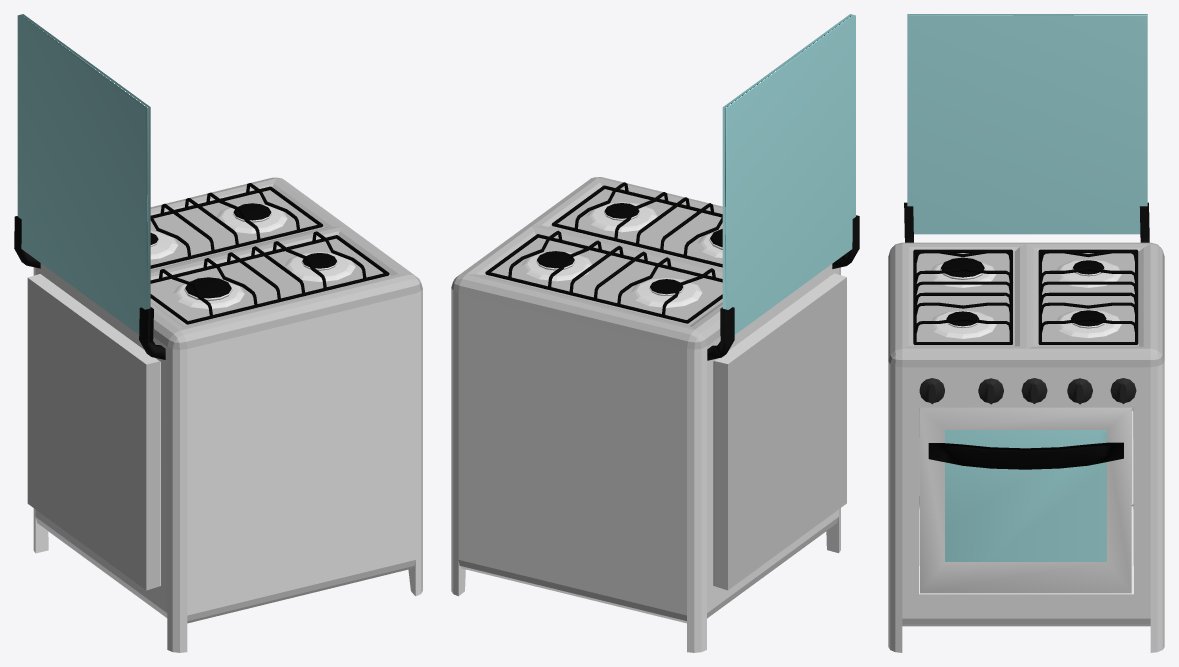
The model's file is fogao.fbx.
The picture shows the model from 3 angles, left to right: view 1: azimuth 30°, elevation 25°; view 2: azimuth 150°, elevation 25°; view 3: azimuth 270°, elevation 25°; orthographic projection. The views are drawn at different scales.
Visible parts, largest first — view 1: Cubo, Cubo.003, Cilindro, Cilindro.012, Cilindro.007, Cilindro.010, Cilindro.009, Cilindro.014; view 2: Cubo, Cubo.003, Cilindro.012, Cilindro, Cilindro.006, Cilindro.007, Cilindro.010; view 3: Cubo, Cubo.003, Cubo.001, Cilindro.012, Cilindro, Cilindro.007, Cilindro.010, Cilindro.006, Cilindro.009, Cilindro.014, Cilindro.002, Cilindro.004 (+4 smaller).
Boxes of the visible parts, bbox=[...] form: Cubo: bbox=[27, 177, 422, 652]; Cubo.003: bbox=[14, 14, 165, 359]; Cilindro: bbox=[150, 231, 389, 324]; Cilindro.012: bbox=[150, 183, 323, 268]; Cilindro.007: bbox=[284, 251, 355, 281]; Cilindro.010: bbox=[216, 204, 287, 233]; Cilindro.009: bbox=[184, 277, 232, 300]; Cilindro.014: bbox=[173, 280, 244, 308]; Cubo: bbox=[451, 177, 846, 652]; Cubo.003: bbox=[707, 14, 859, 360]; Cilindro.012: bbox=[485, 230, 722, 323]; Cilindro: bbox=[551, 182, 722, 267]; Cilindro.006: bbox=[630, 277, 702, 307]; Cilindro.007: bbox=[586, 201, 657, 232]; Cilindro.010: bbox=[521, 251, 591, 281]; Cubo: bbox=[888, 242, 1164, 652]; Cubo.003: bbox=[904, 14, 1149, 242]; Cubo.001: bbox=[920, 407, 1131, 593]; Cilindro.012: bbox=[1038, 249, 1138, 344]; Cilindro: bbox=[913, 249, 1012, 344]; Cilindro.007: bbox=[929, 310, 996, 338]; Cilindro.010: bbox=[1054, 309, 1121, 338]; Cilindro.006: bbox=[1055, 259, 1121, 287]; Cilindro.009: bbox=[940, 257, 985, 279]; Cilindro.014: bbox=[929, 261, 996, 287]; Cilindro.002: bbox=[978, 378, 1003, 404]; Cilindro.004: bbox=[1067, 378, 1092, 404].
Size of the model in its own units: 237 by 410 by 200.
